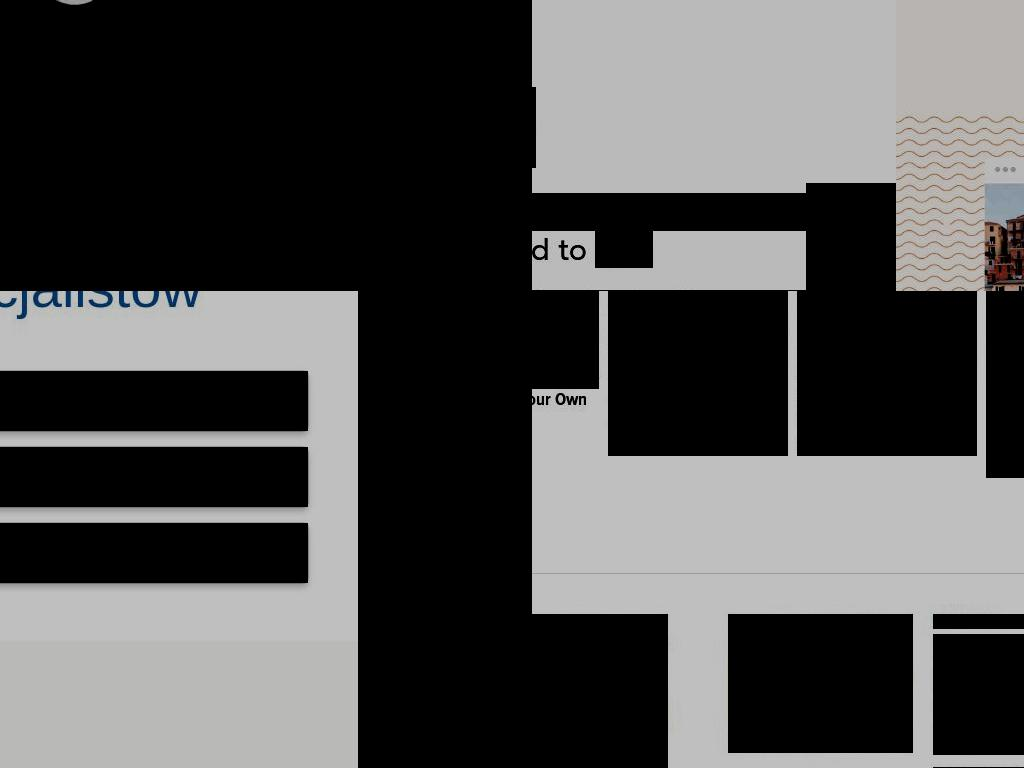button: (608, 291, 788, 456), (797, 291, 977, 456), (728, 614, 913, 753), (0, 371, 308, 431), (0, 447, 308, 507), (0, 523, 308, 583), (933, 634, 1024, 755), (0, 15, 237, 59), (532, 291, 599, 434)
heading: (532, 193, 856, 231), (0, 163, 272, 190), (532, 231, 595, 268), (595, 231, 653, 268)
image: (358, 291, 532, 768), (728, 614, 913, 753), (608, 291, 788, 380), (797, 291, 977, 380), (532, 291, 599, 380), (268, 389, 292, 413), (268, 465, 292, 489), (268, 541, 292, 565)
text: (0, 201, 414, 243), (608, 389, 788, 456), (797, 389, 977, 456), (0, 539, 162, 567), (0, 463, 154, 491), (986, 389, 1024, 478), (532, 389, 599, 434), (0, 387, 79, 415), (933, 614, 1024, 629)
